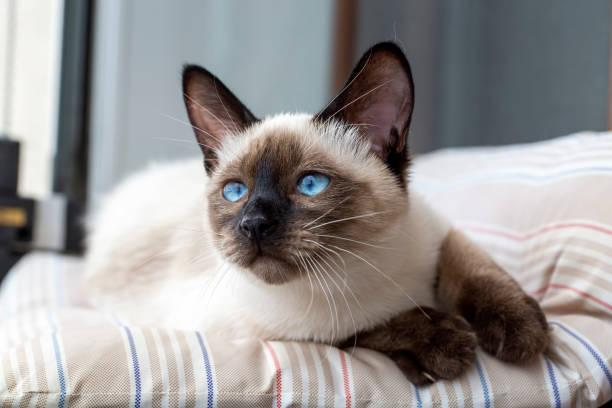siamese: (180, 45, 427, 292)
